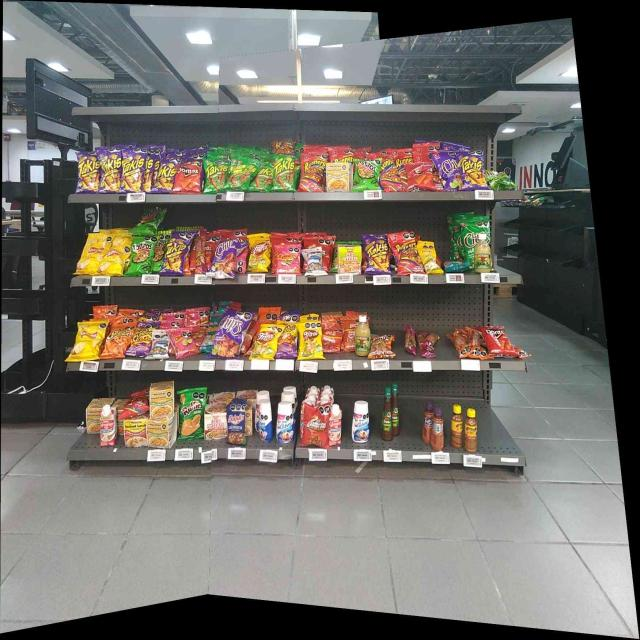bitzEnchilado90: (322, 329, 340, 352), (343, 321, 355, 350)
bitzEnchilado95: (452, 328, 482, 360)
bitzHabanero: (418, 333, 439, 358), (195, 230, 206, 274), (405, 326, 417, 354)
bokadosCacahuates: (228, 404, 245, 444)
botaneraChilito: (450, 404, 462, 446), (466, 409, 477, 453)
cheetosFlaminHot: (132, 327, 151, 355), (280, 324, 296, 354)
cheetosOriginal: (107, 329, 130, 357)
chipsFuego: (220, 316, 240, 356), (215, 240, 236, 278), (438, 156, 459, 189)
chipsJalapeno: (463, 225, 474, 260)
churrumais: (277, 246, 300, 275), (173, 333, 192, 355)
delPrimoSalsa: (475, 234, 491, 273), (356, 316, 370, 354)
doritosNacho: (485, 328, 512, 356), (178, 166, 200, 191), (413, 165, 432, 188)
fritosLimon: (301, 325, 321, 359), (251, 240, 269, 271), (256, 331, 276, 358)
leoCacahuates: (153, 336, 169, 358), (307, 249, 321, 274)
leoMix: (372, 336, 391, 356)
maruchanPollo: (151, 383, 173, 414), (328, 164, 350, 192), (147, 420, 170, 446), (87, 404, 99, 433)
maruchanRes: (124, 420, 146, 446)
nestleCarnation: (99, 406, 117, 446), (329, 406, 342, 443)
nestleLechera: (351, 398, 371, 443), (258, 397, 273, 441), (277, 404, 294, 442)
nissinCamaron: (340, 246, 359, 275)
nissinRes: (205, 410, 226, 437)
rancheritos: (305, 415, 327, 445)
rufflesQueso: (181, 397, 203, 437)
runners: (394, 232, 417, 273), (302, 158, 326, 190), (380, 160, 395, 190), (396, 158, 412, 183), (275, 140, 292, 154), (333, 155, 353, 163)
sabritasOriginal: (73, 324, 99, 358), (104, 244, 124, 275), (86, 240, 103, 274)
salsaBufalo: (381, 386, 393, 439)
semillasCalabaza: (422, 243, 437, 271)
semillasGirasol: (201, 334, 214, 352)
tajinDulce: (432, 408, 444, 448)
takisFuego: (367, 235, 389, 274), (122, 152, 144, 190), (78, 157, 100, 191), (166, 238, 186, 275), (460, 154, 482, 187), (101, 156, 121, 190), (158, 164, 176, 192), (144, 152, 153, 191)
takisOriginal: (206, 163, 228, 190), (275, 160, 294, 190), (229, 167, 253, 190), (254, 169, 274, 190)
tostitos: (356, 160, 378, 190), (133, 240, 153, 270), (154, 240, 166, 270), (140, 210, 160, 228)
